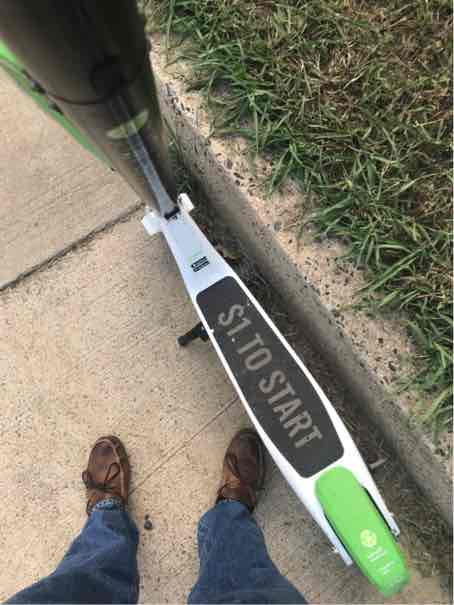scooter: (8, 8, 438, 605)
